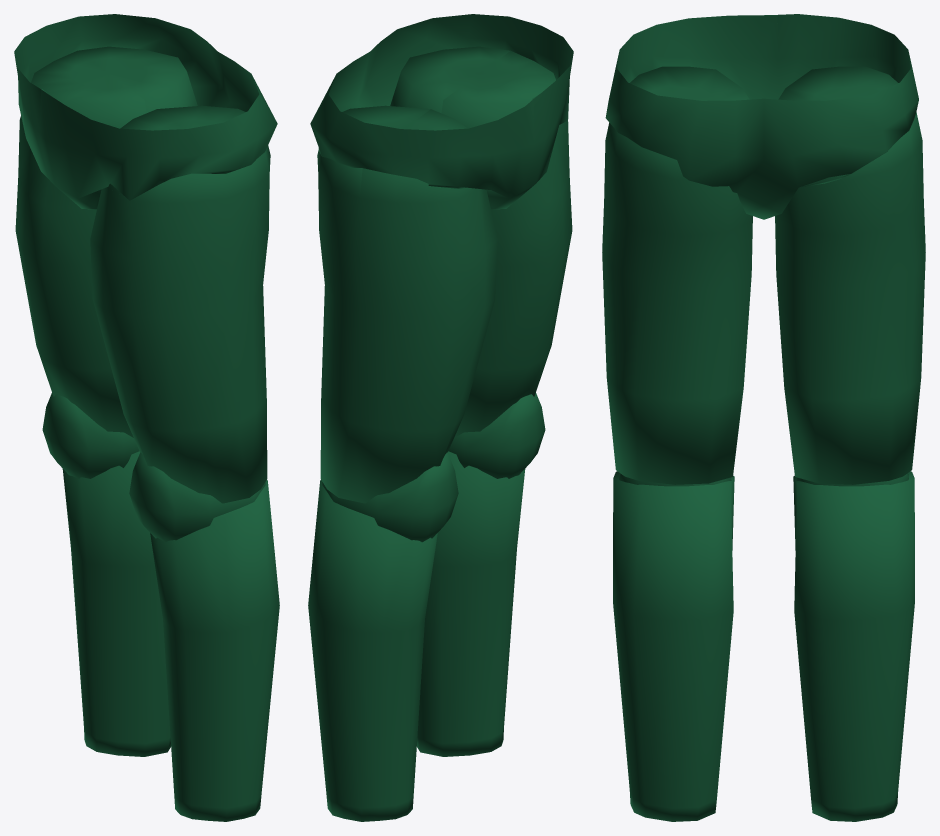
The model's file is sht2.fbx.
3 views of the same model, side by side, from view 1: azimuth 30°, elevation 25°; view 2: azimuth 150°, elevation 25°; view 3: azimuth 270°, elevation 25° (orthographic). The views are drawn at different scales.
Parts seen in each view (by area): view 1: Object_9.004; view 2: Object_9.004; view 3: Object_9.004.
Boxes of the visible parts, x1,y1,x2,y2 form: Object_9.004: (14, 14, 279, 821); Object_9.004: (308, 14, 573, 821); Object_9.004: (602, 14, 925, 821).
Size of the model in its own units: 55 by 195 by 78.59.
